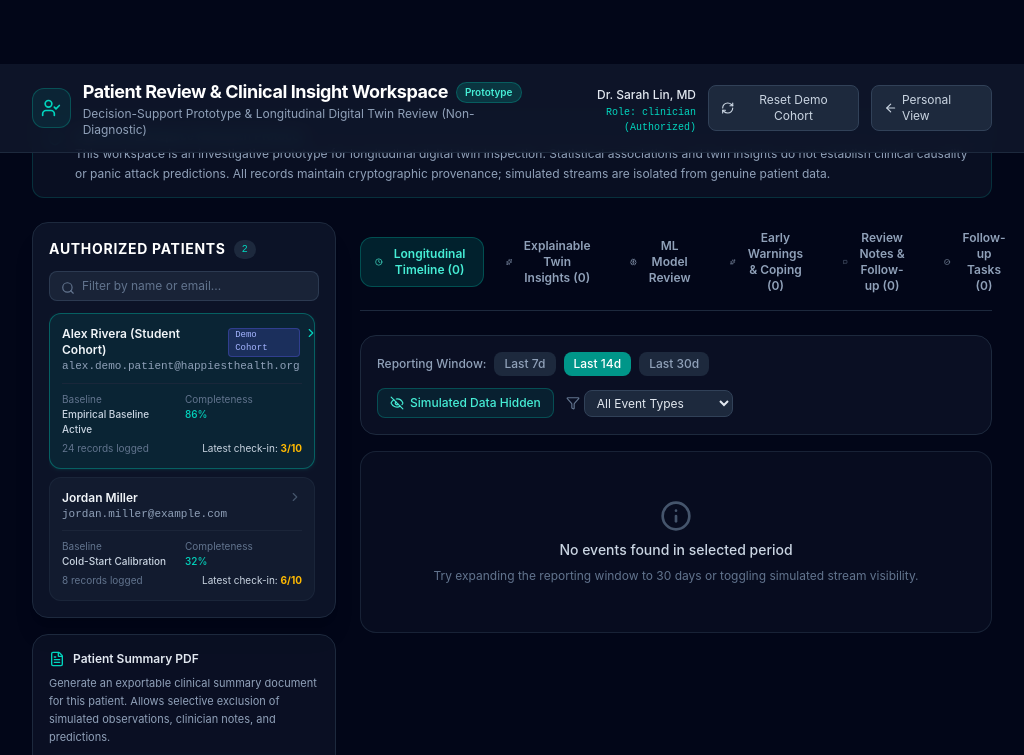
Test: Phase 6.2 — ClinicianWorkspacePage Component › switches to Early Warnings & Coping tab, displays baseline matrix, signals, and opens source inspector
Step 1. Click the button "Early Warnings & Coping (0)" → (769, 262), box [716,222,821,302]
(page scrolled)
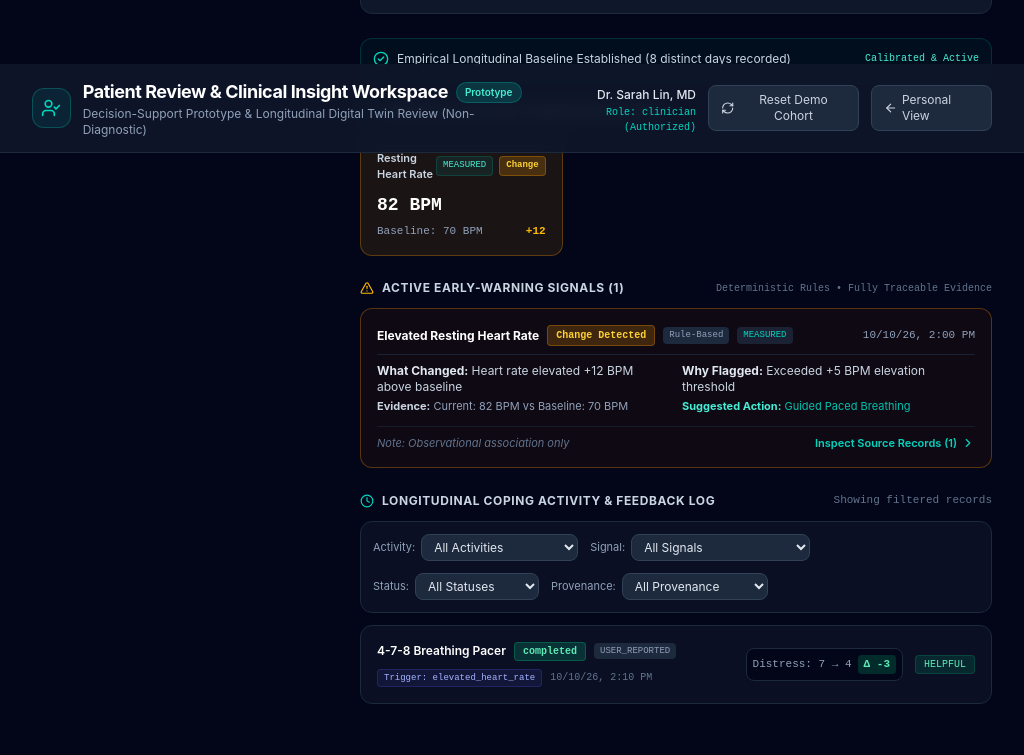
expect the text "Resting Heart Rate" is shown: met, box [377,150,436,183]
expect the text "Elevated Resting Heart Rate" is shown: met, box [377,328,539,344]
expect the text "4-7-8 Breathing Pacer" is shown: met, box [377,644,506,660]
// Inspect Source Observations drawer trigger
Step 2. Click the button "Inspect Source Records (1)" → (895, 443), box [815,435,975,451]
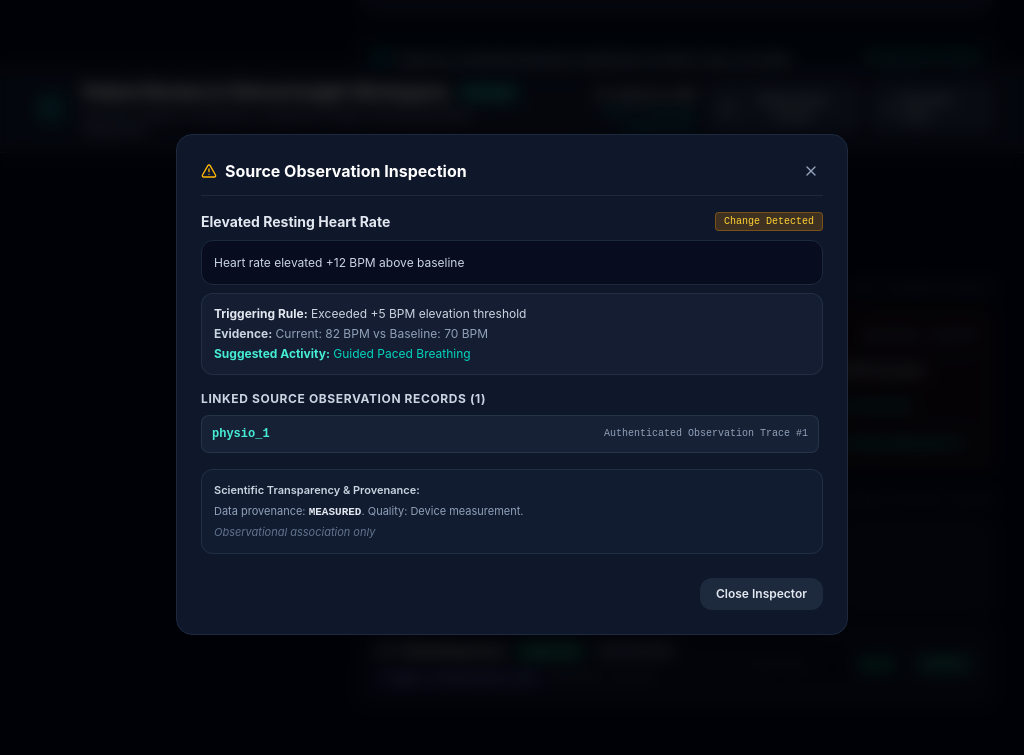
expect the heading "Source Observation Inspection" is shown: met, box [225,158,467,182]
expect the text "physio_1" is shown: met, box [212,426,270,442]
